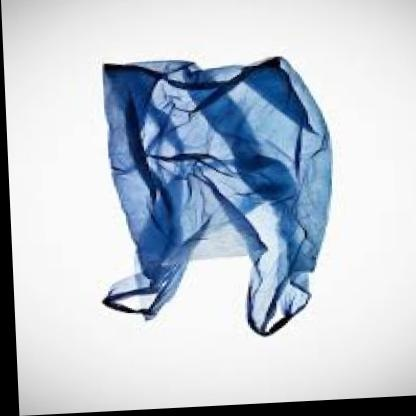trash: (103, 57, 330, 334)
